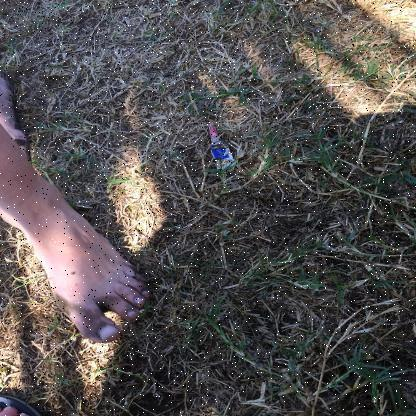metal: (207, 122, 237, 170)
